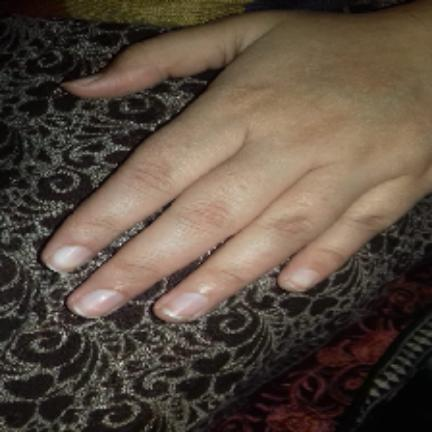Nail: (74, 289, 122, 319), (162, 292, 207, 321), (48, 244, 88, 272), (288, 267, 318, 291), (61, 76, 99, 86)
